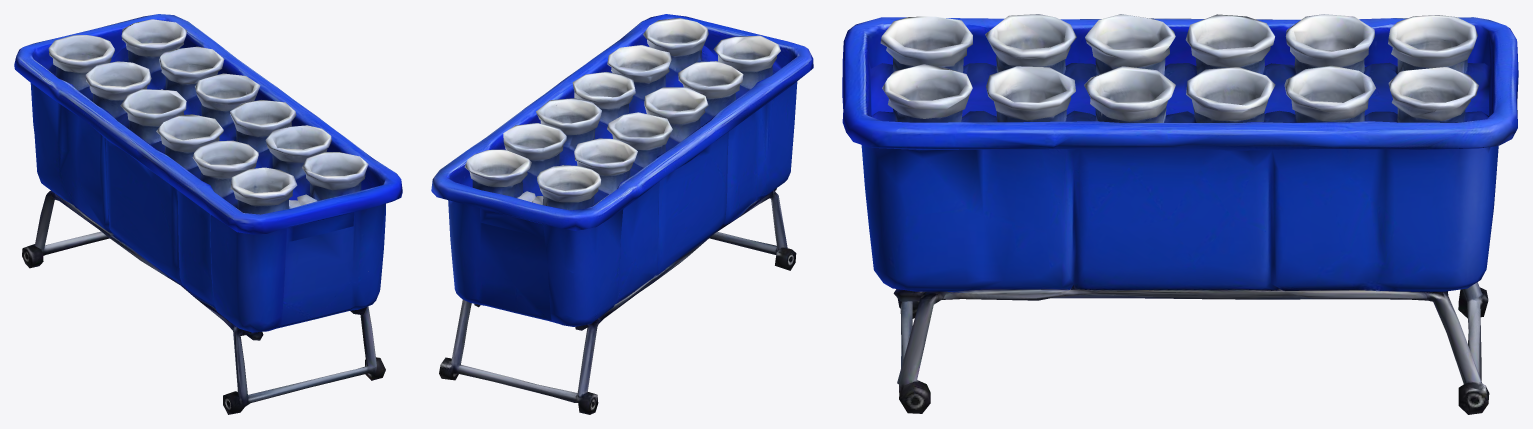
Rendered from mesa-agua.glb.
3 views of the same model, side by side, from view 1: azimuth 30°, elevation 25°; view 2: azimuth 150°, elevation 25°; view 3: azimuth 270°, elevation 25° (orthographic). The views are drawn at different scales.
Parts seen in each view (by area): view 1: tripo_node_95dbc0da-3673-40c8-8fdb-45ca85027f4f; view 2: tripo_node_95dbc0da-3673-40c8-8fdb-45ca85027f4f; view 3: tripo_node_95dbc0da-3673-40c8-8fdb-45ca85027f4f.
Part boxes in pixels (x1,y1,x2,y2): tripo_node_95dbc0da-3673-40c8-8fdb-45ca85027f4f: [14, 14, 402, 414]; tripo_node_95dbc0da-3673-40c8-8fdb-45ca85027f4f: [431, 14, 813, 414]; tripo_node_95dbc0da-3673-40c8-8fdb-45ca85027f4f: [842, 14, 1518, 414].
Size of the model in its own units: 0.4064 by 0.5027 by 1.
Materials: 1 (1 with a texture image).
